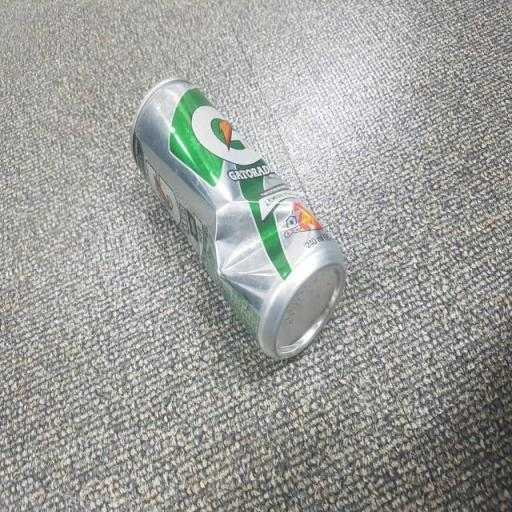metal: (128, 69, 359, 385)
